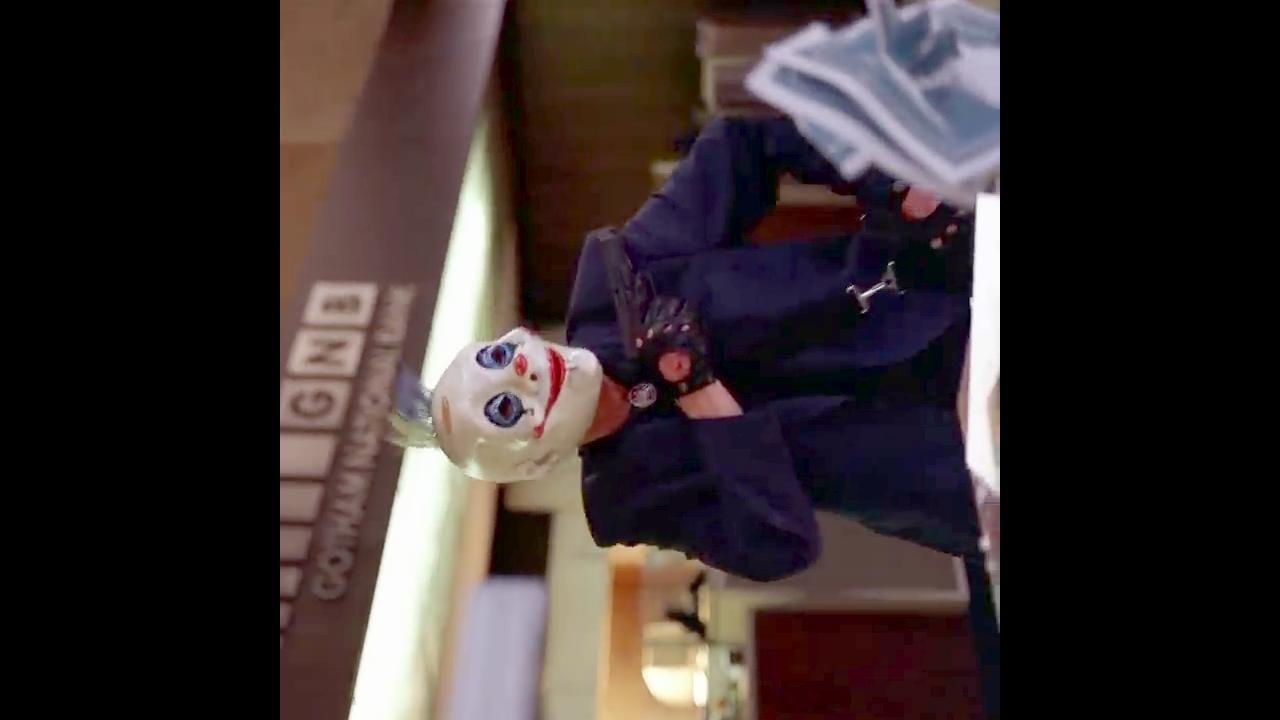gun: (592, 228, 738, 424)
